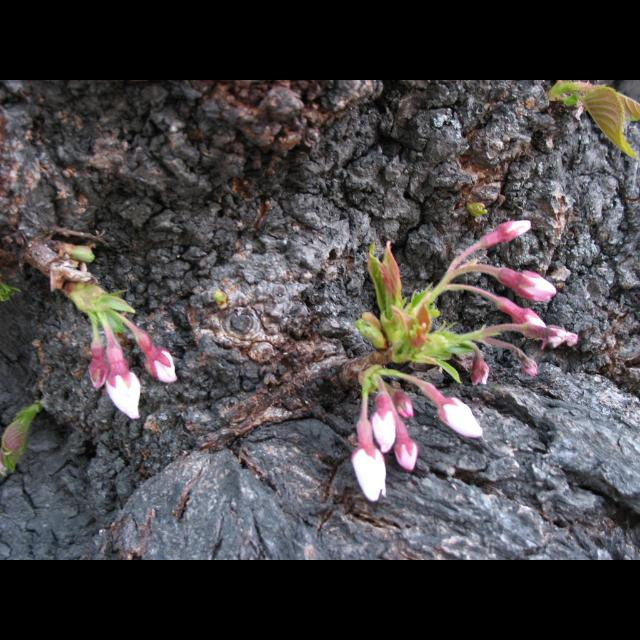Flower: (423, 381, 482, 435), (105, 339, 145, 418), (352, 418, 370, 502)
